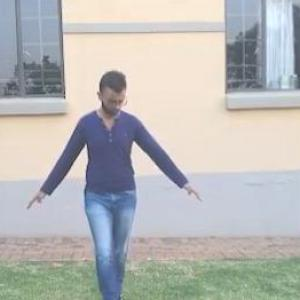land: (33, 50, 211, 299)
